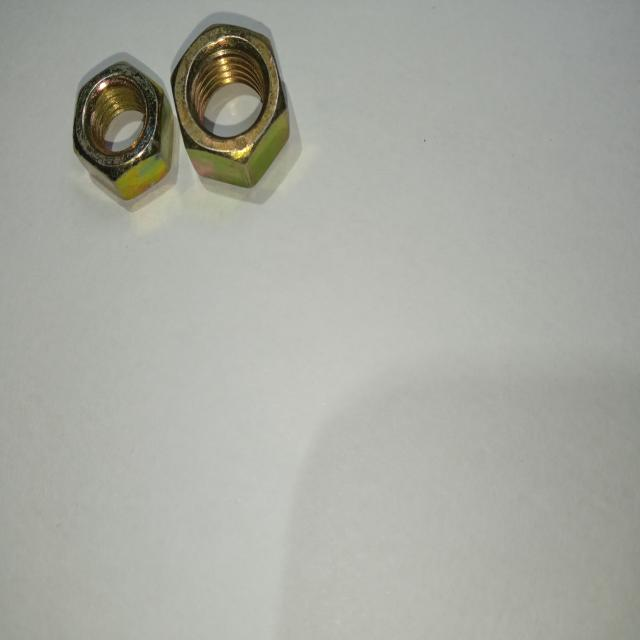m10: (179, 31, 285, 165)
m8: (74, 65, 166, 193)
